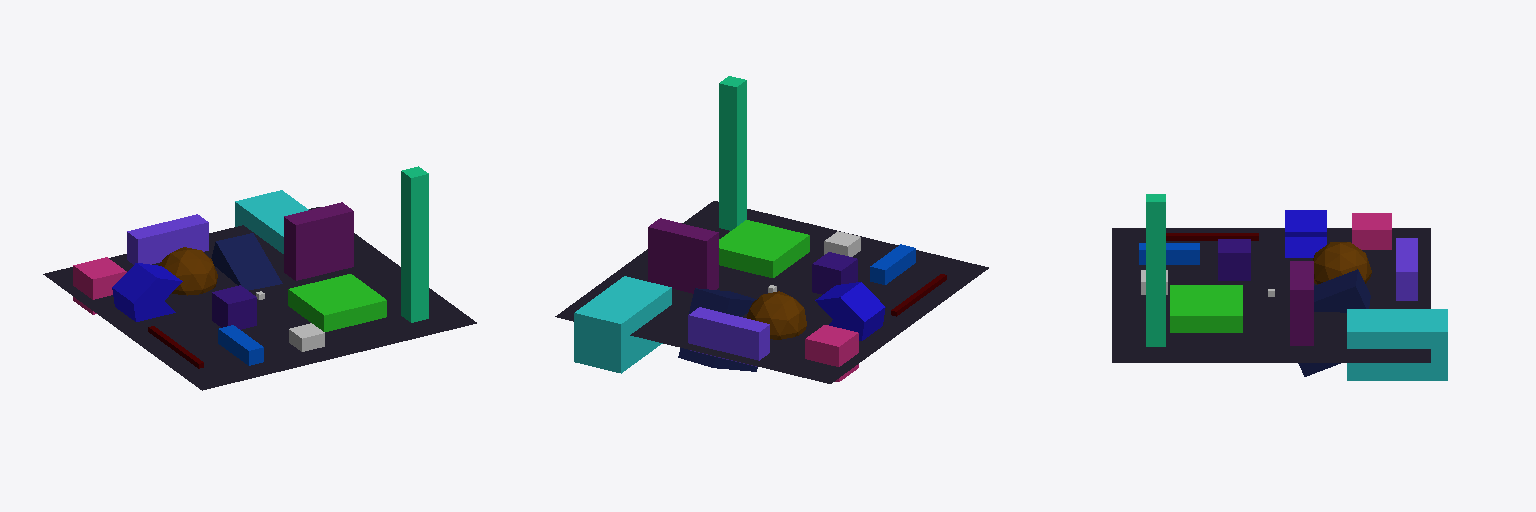
The model's file is map8.obj.
3 views of the same model, side by side, from view 1: azimuth 30°, elevation 25°; view 2: azimuth 150°, elevation 25°; view 3: azimuth 270°, elevation 25° (orthographic).
Visible parts, largest first — view 1: Plane, Cube.001, Cube.010, Cube.004, Cube.005, Cube.012, Cube.003, Cube.008, Icosphere, Cube.006, Cube.011, Cube.002 (+2 smaller); view 2: Plane, Cube.008, Cube.001, Cube.010, Cube.004, Cube.012, Cube.005, Cube.003, Icosphere, Cube.011, Cube.006, Cube.002 (+2 smaller); view 3: Plane, Cube.008, Cube.004, Cube.010, Cube.003, Cube.001, Cube.005, Icosphere, Cube.011, Cube.006, Cube.012, Cube.002 (+1 smaller).
Boxes of the visible parts, box(x1,y1,x2,y2) form: Plane: box(43, 207, 476, 390); Cube.001: box(284, 202, 353, 280); Cube.010: box(401, 166, 428, 322); Cube.004: box(288, 274, 386, 331); Cube.005: box(112, 263, 182, 321); Cube.012: box(127, 214, 208, 264); Cube.003: box(211, 233, 282, 290); Cube.008: box(235, 190, 308, 253); Icosphere: box(159, 247, 217, 295); Cube.006: box(212, 285, 256, 329); Cube.011: box(73, 257, 126, 314); Cube.002: box(218, 325, 263, 365); Plane: box(555, 201, 988, 383); Cube.008: box(574, 276, 671, 373); Cube.001: box(648, 218, 718, 293); Cube.010: box(719, 76, 746, 230); Cube.004: box(719, 220, 809, 277); Cube.012: box(688, 307, 769, 366); Cube.005: box(815, 282, 885, 340); Cube.003: box(678, 288, 757, 371); Icosphere: box(746, 291, 806, 339); Cube.011: box(805, 325, 858, 381); Cube.006: box(812, 252, 857, 294); Cube.002: box(870, 244, 915, 284); Plane: box(1112, 228, 1430, 362); Cube.008: box(1347, 309, 1447, 380); Cube.004: box(1170, 285, 1242, 332); Cube.010: box(1146, 194, 1165, 346); Cube.003: box(1298, 269, 1370, 376); Cube.001: box(1290, 261, 1313, 345); Cube.005: box(1285, 210, 1326, 257); Icosphere: box(1313, 242, 1371, 284); Cube.011: box(1352, 213, 1391, 249); Cube.006: box(1218, 239, 1250, 280); Cube.012: box(1396, 238, 1417, 300); Cube.002: box(1139, 243, 1199, 264).
Bounding box in the file's own units: 100 × 73 × 105.